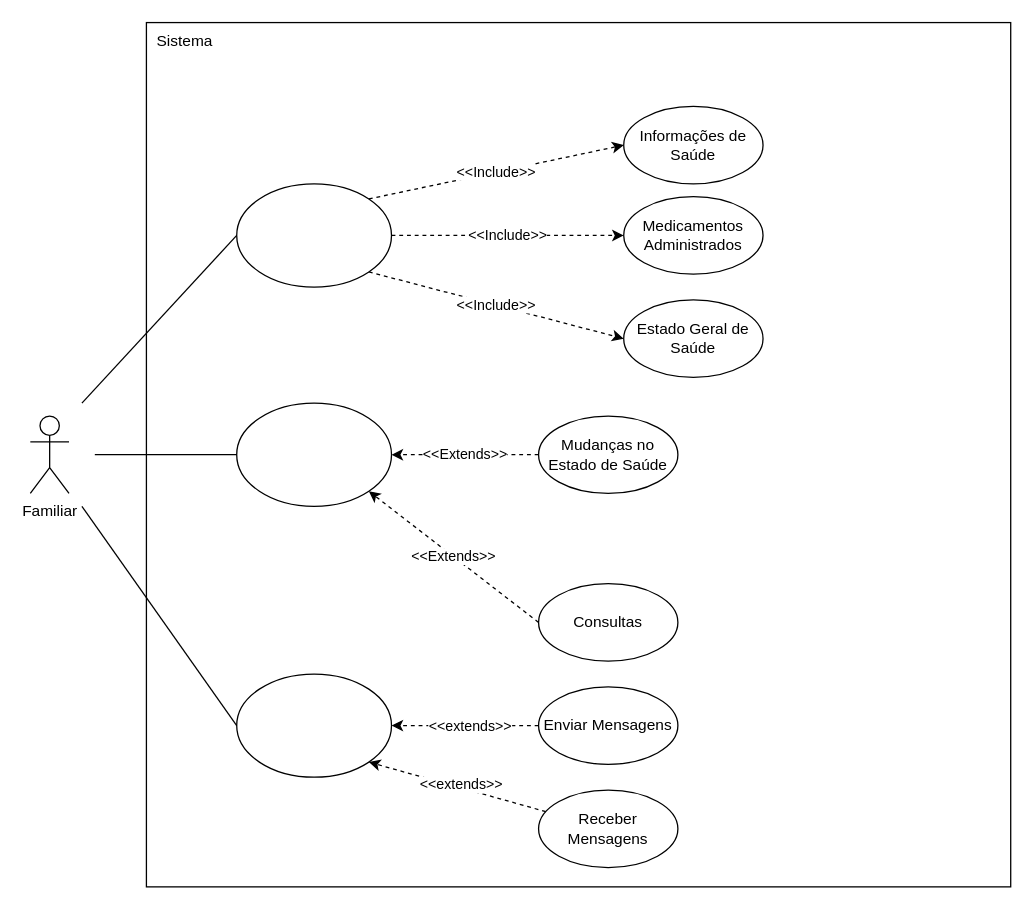
Image size: 1033x909. Some labels were removed from this diagram. Each missing label, with the centre of its shape:
Acesso ás Informações do Residente: pixel 313 235
Interação com a Administração: pixel 313 725
Notificações: pixel 313 454
